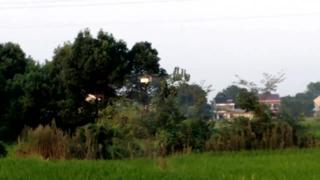UAV: (125, 74, 161, 84)
